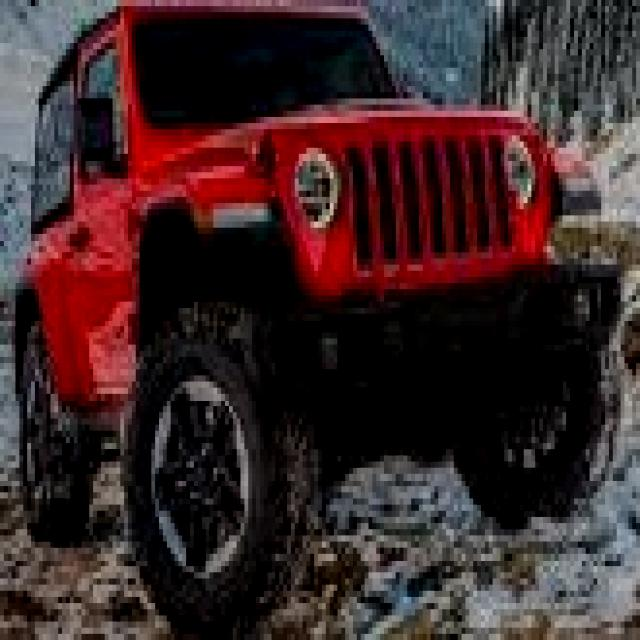red: (28, 16, 551, 543)
